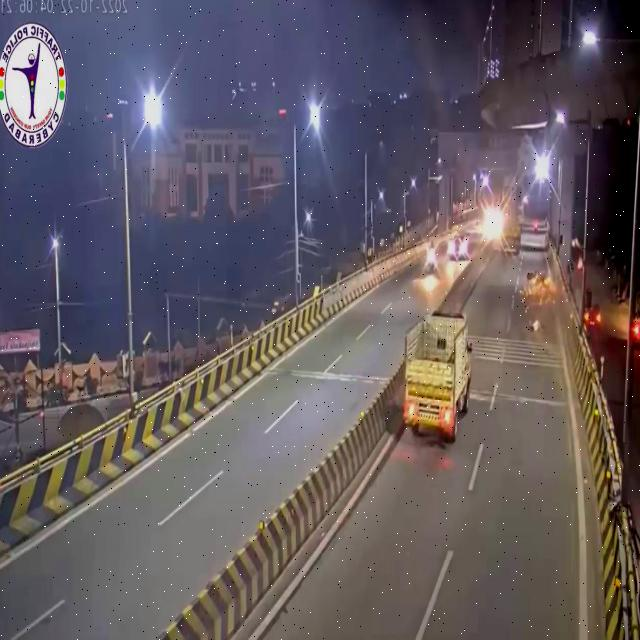accident: (518, 266, 562, 311)
